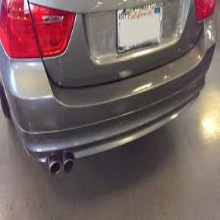no damage: (1, 1, 215, 175)
